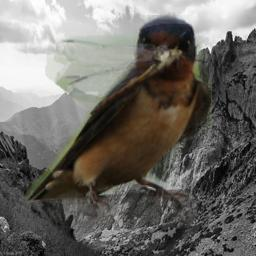Swallow: (25, 15, 212, 228)
